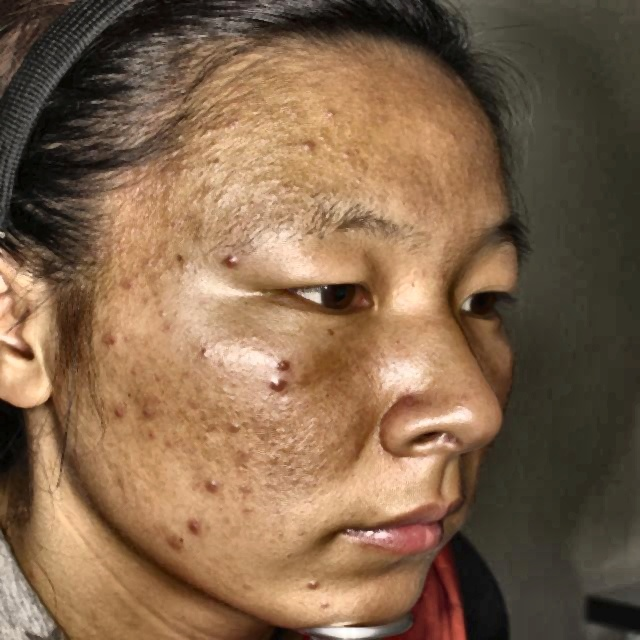pustule: (220, 243, 252, 280), (142, 394, 166, 428), (262, 368, 286, 396), (100, 320, 123, 347), (301, 574, 322, 600), (168, 533, 182, 557), (204, 475, 222, 492), (185, 518, 202, 530)
